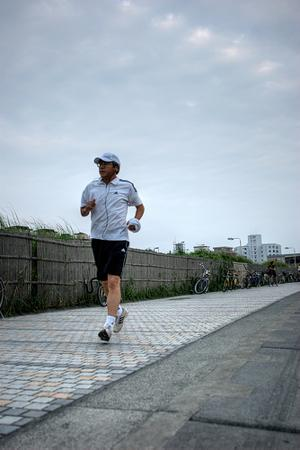person: (80, 152, 146, 342)
